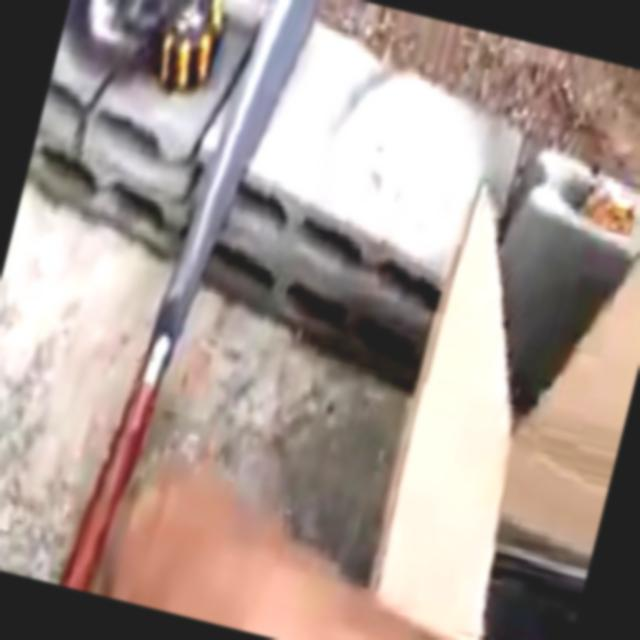eto: (61, 0, 318, 589)
